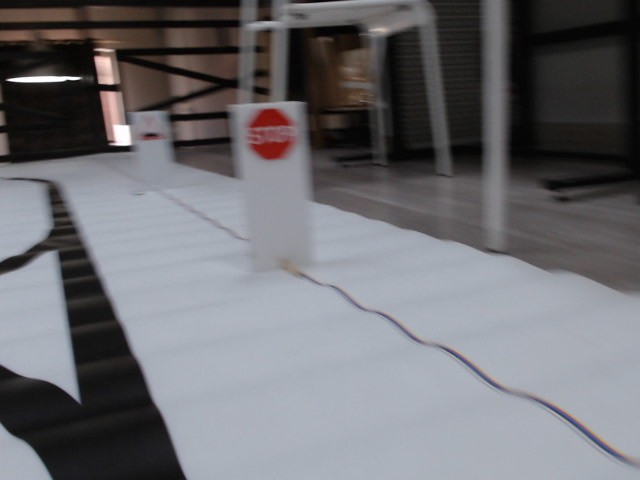Nerov: (137, 115, 169, 144)
Stop: (248, 109, 297, 161)
